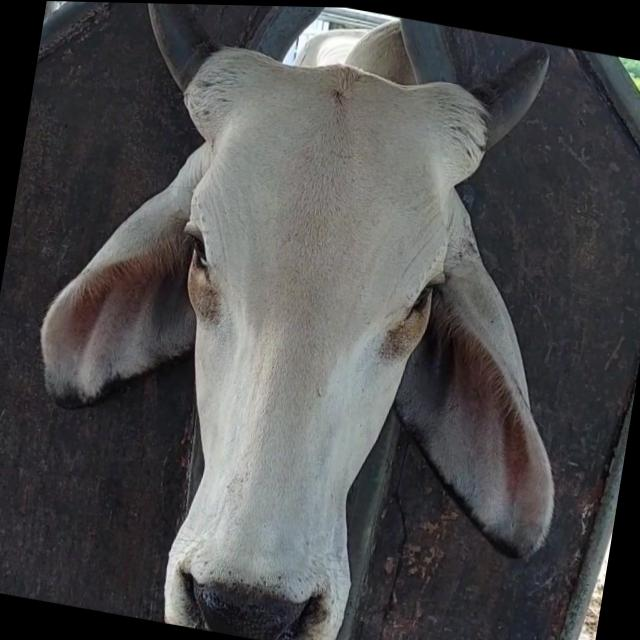cowFace: (132, 38, 475, 640)
